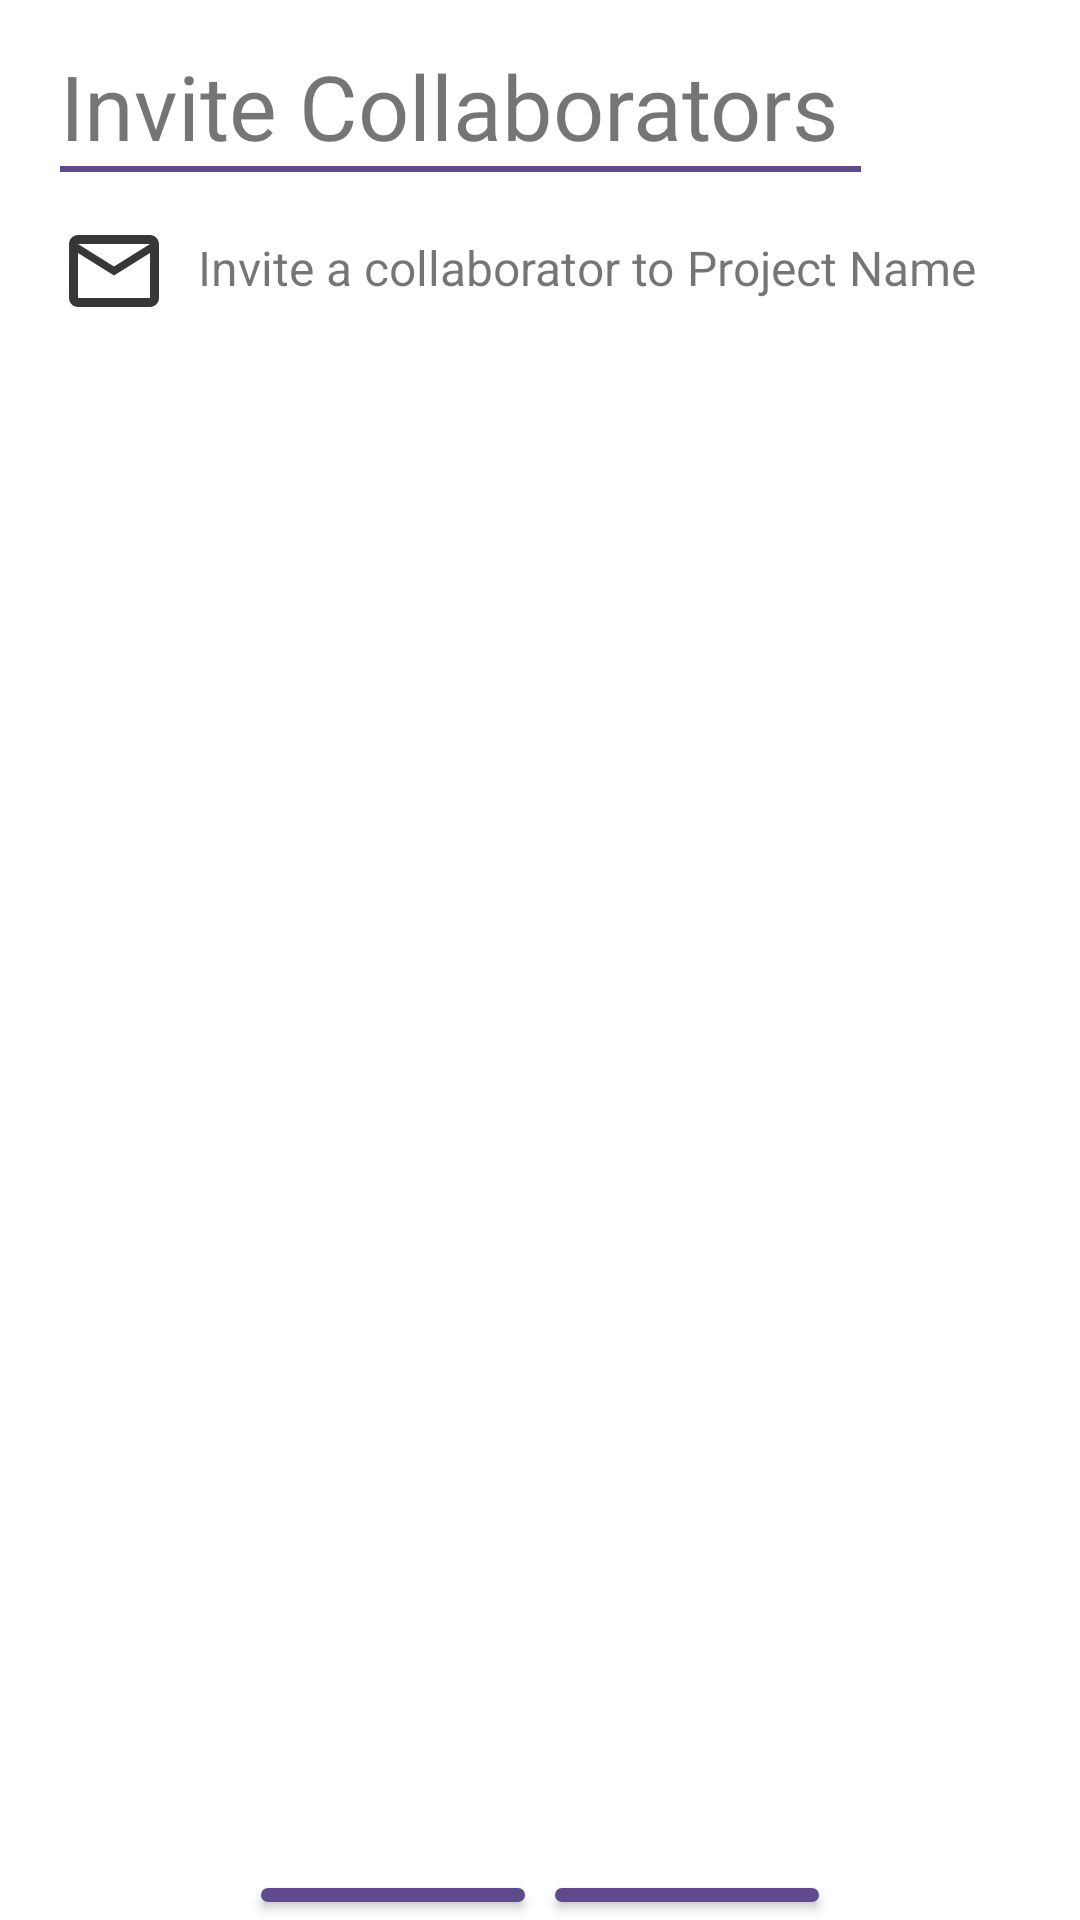

Screen size 1080 × 1920. Icon name, then its box in pixels as bbox(x1, y1, x2, y2):
mail: bbox(69, 235, 159, 307)
